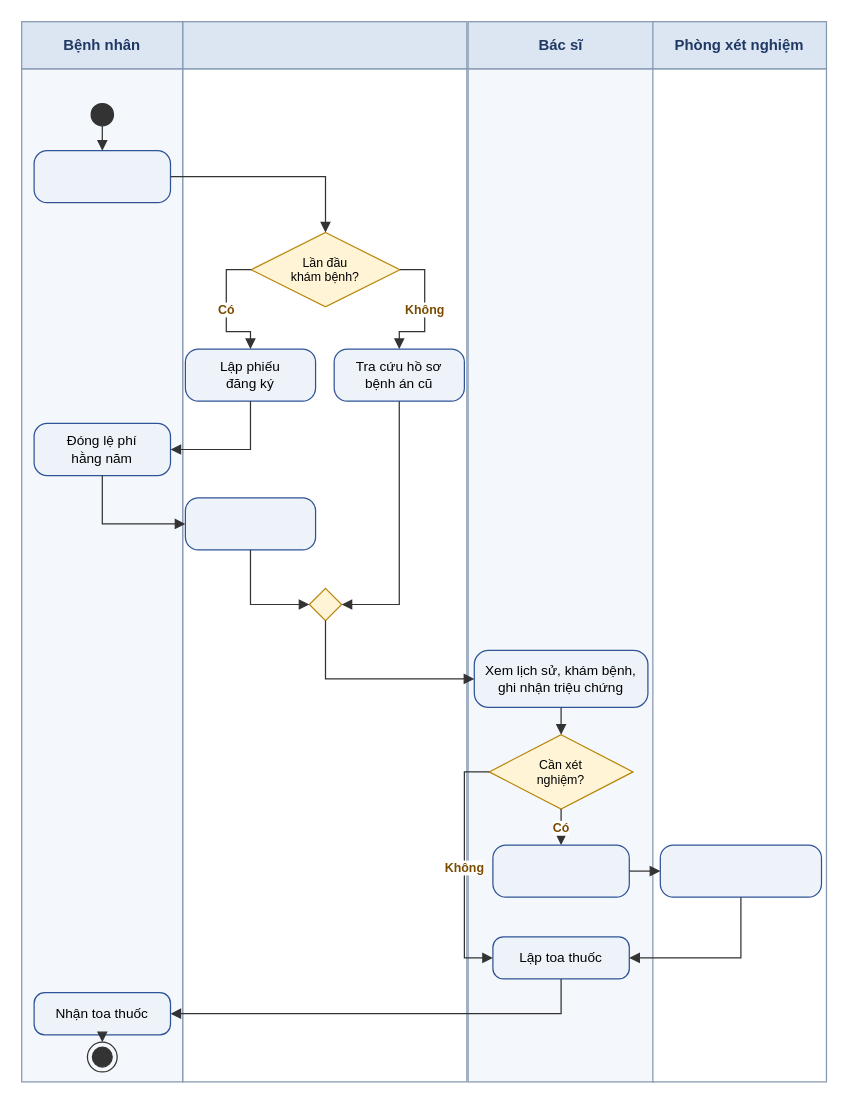
Image size: 848x1104. Some labels were removed from this diagram. Here are the shapes that lost their labels. From the top down, the box of each, then its label:
(182, 20, 467, 69): Lễ tân / CSKH
(33, 149, 170, 203): Đến bệnh viện khám bệnh
(184, 497, 316, 550): Cấp hồ sơ bệnh án
(492, 844, 629, 897): Chỉ định xét nghiệm
(659, 844, 822, 897): Thực hiện xét nghiệm, nhập kết quả
